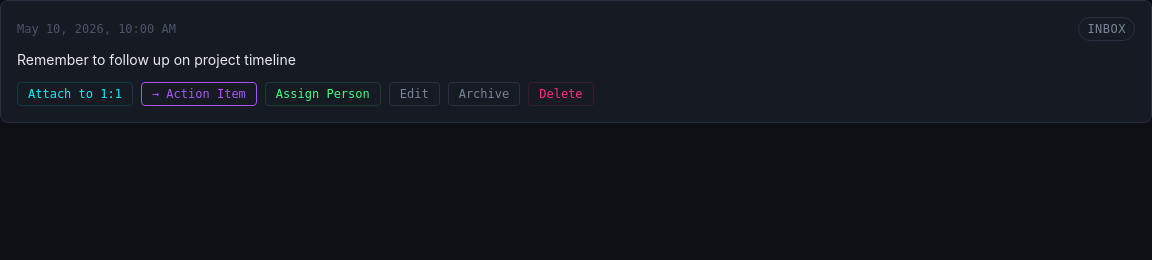
Test: QuickNoteCard › should show person picker when assign button is clicked
Click the button with test id "quick-note-assign-btn": {"x": 323, "y": 94} [265,82,381,106]
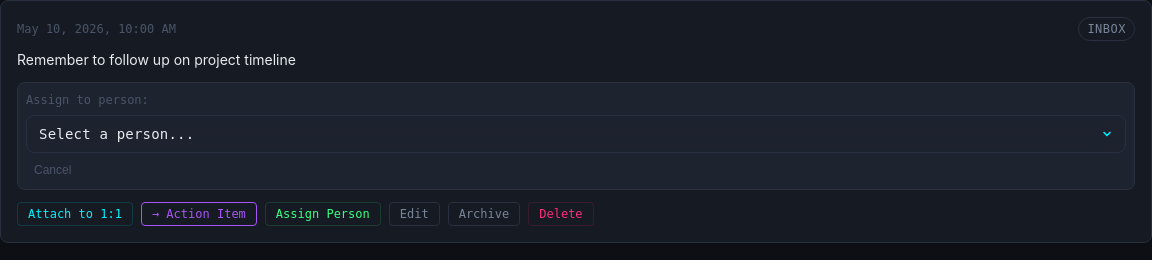
expect the element with test id "person-picker" is shown: met, box [17,82,1135,190]
expect the dropdown with test id "person-picker-select" is shown: met, box [26,115,1126,153]
